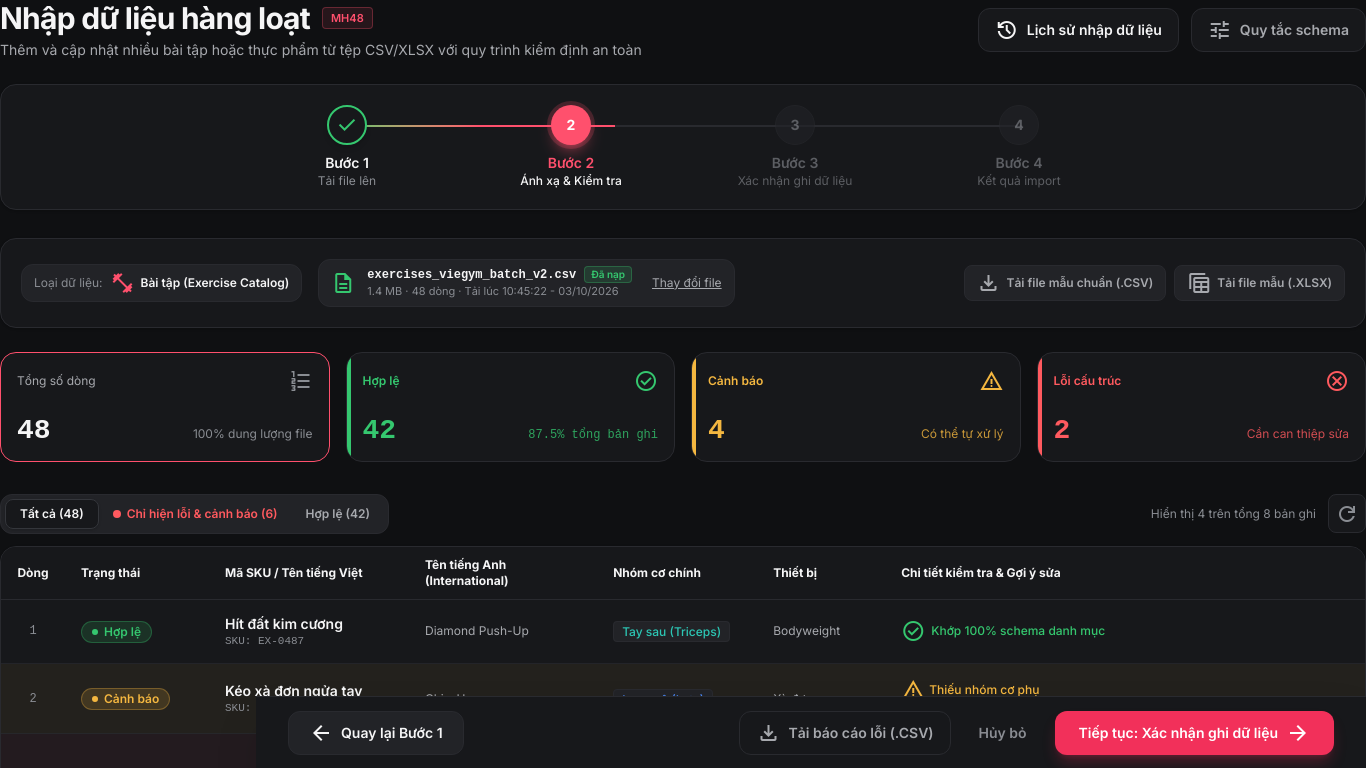
Test: BulkImportPage (MH48) › opens and closes History and Schema modals
History Modal
Step 1. Click the button "Lịch sử nhập dữ liệu" → (1078, 30), box [978, 8, 1179, 52]
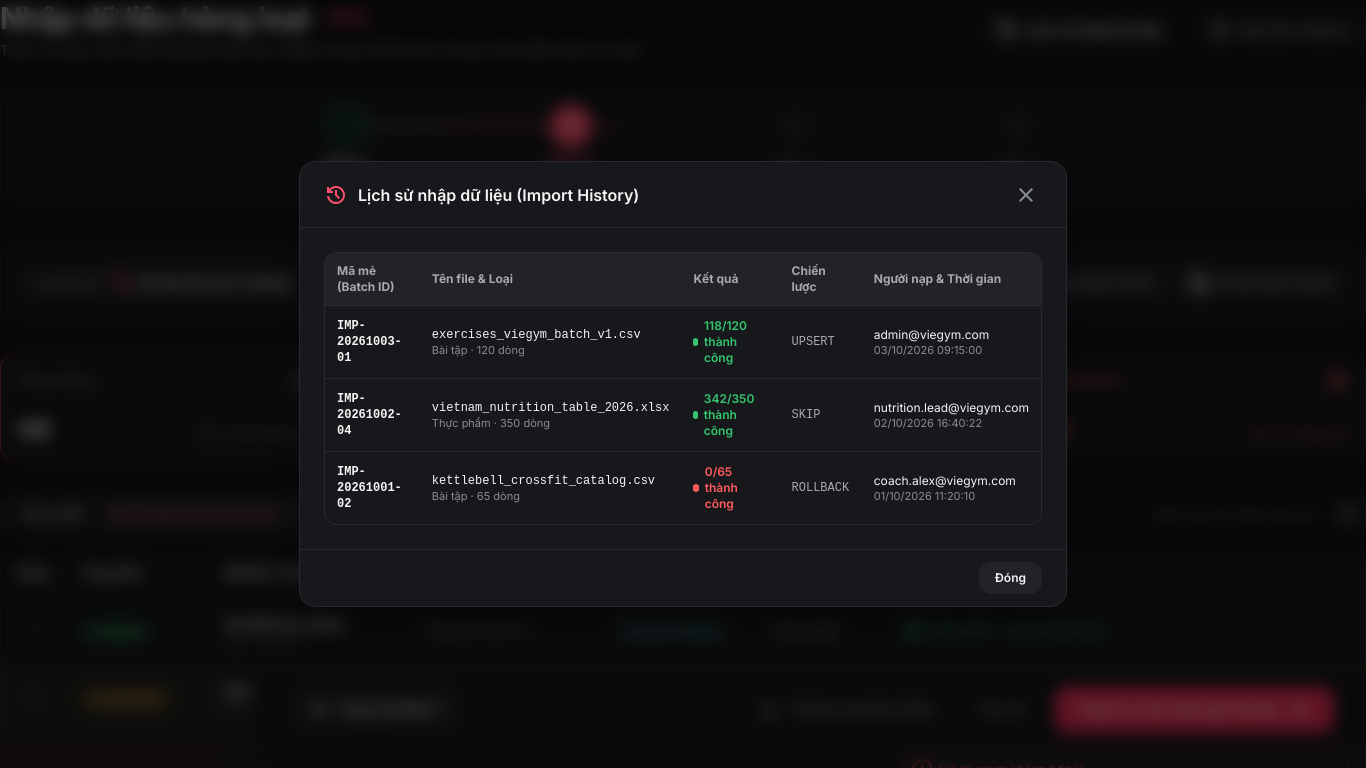
Expected: the heading "Lịch sử nhập dữ liệu (Import History)" is shown, [358, 182, 639, 206]
Step 2. Click the button "Đóng" → (1010, 578), box [979, 562, 1042, 594]
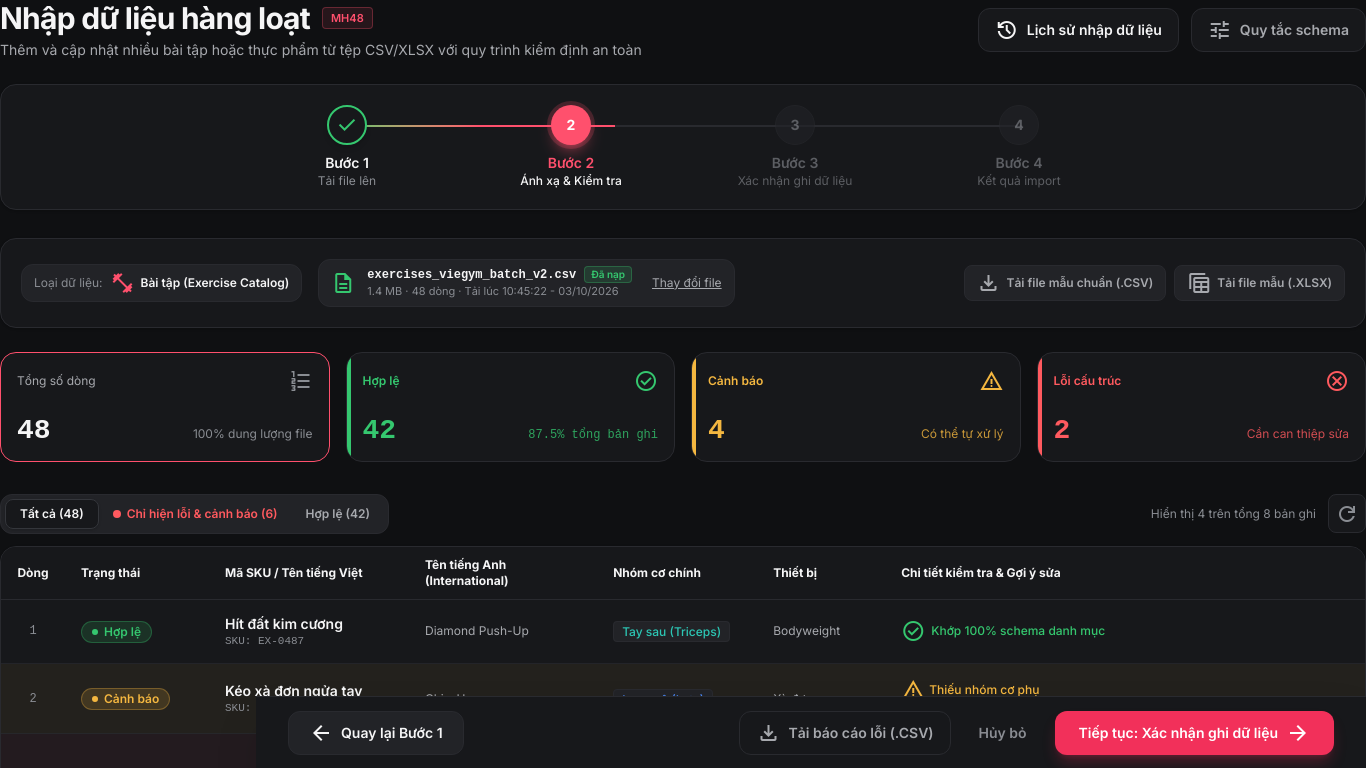
Expected: the heading "Lịch sử nhập dữ liệu (Import History)" is gone
Schema Modal
Step 3. Click the button "Quy tắc schema" → (1278, 30), box [1191, 8, 1365, 52]
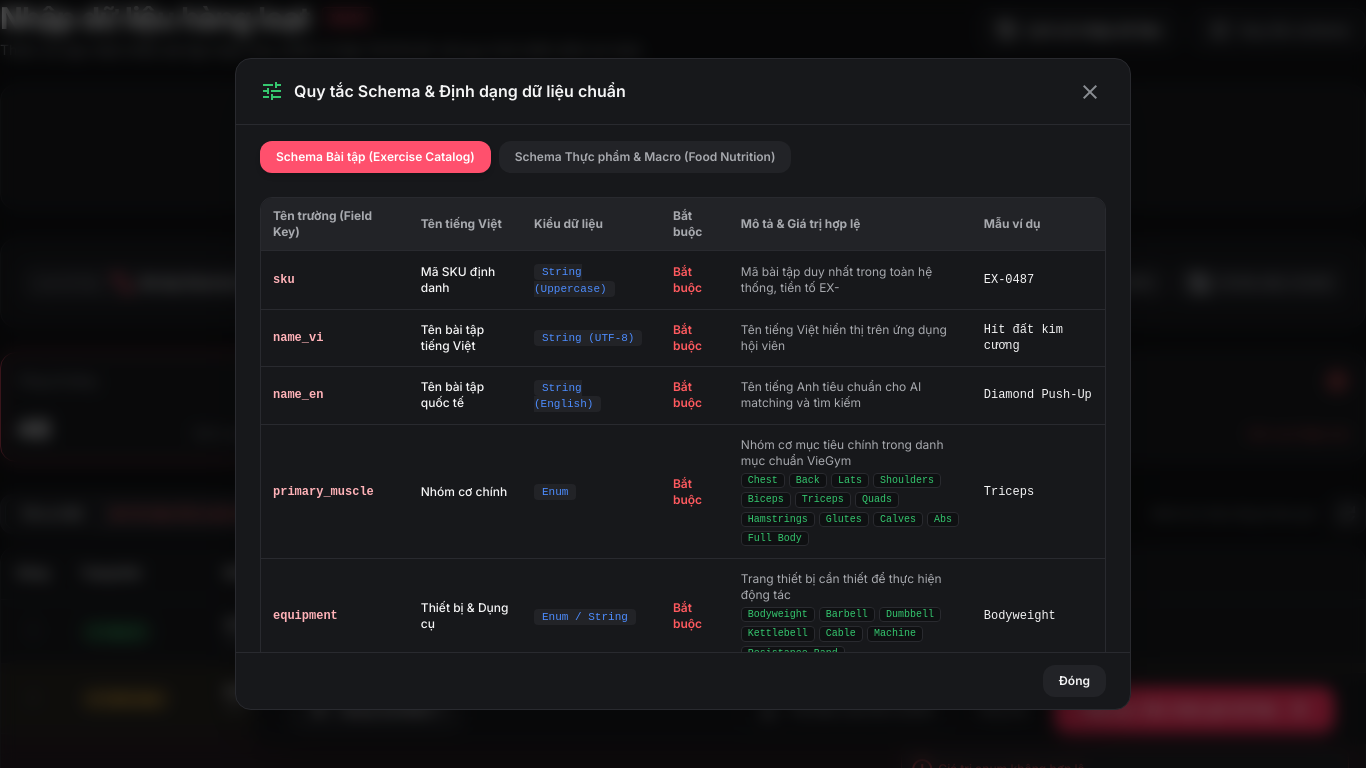
Expected: the heading "Quy tắc Schema & Định dạng dữ liệu chuẩn" is shown, [294, 79, 626, 103]
